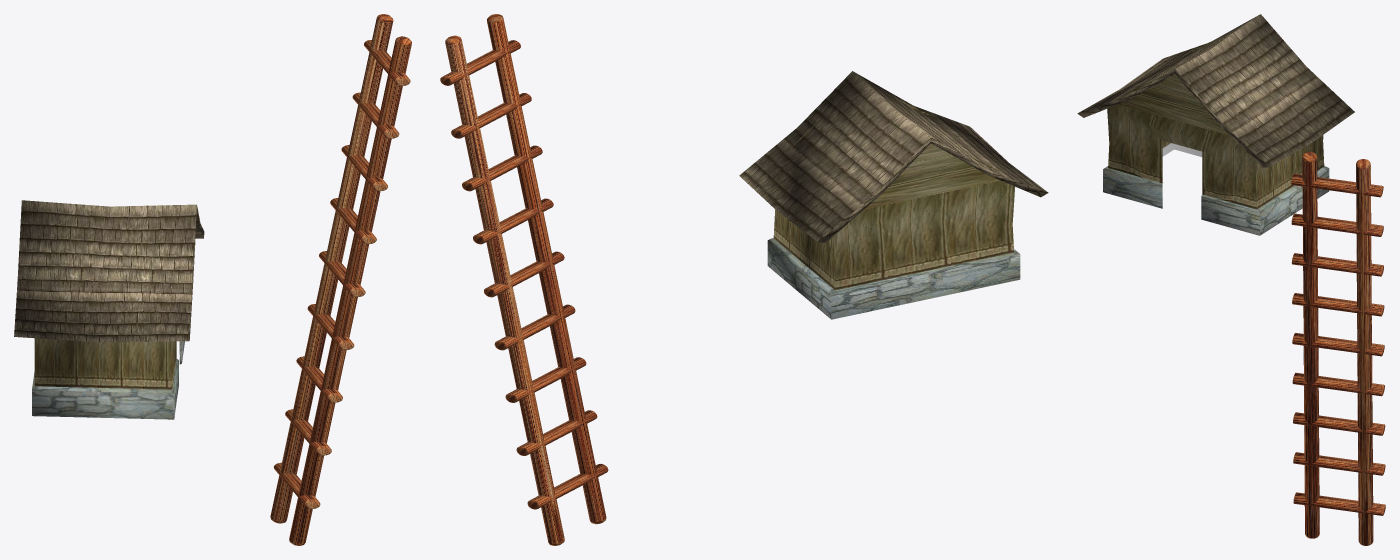
The model's file is lom_model3.fbx.
3 renders of one model, left to right at view 1: azimuth 30°, elevation 25°; view 2: azimuth 150°, elevation 25°; view 3: azimuth 270°, elevation 25°, orthographic. The views are drawn at different scales.
Parts seen in each view (by area): view 1: chatka3, zebrik3; view 2: chatka3, zebrik3; view 3: chatka3, zebrik3.
Boxes of the visible parts, x1,y1,x2,y2 form: chatka3: (14, 200, 204, 419); zebrik3: (270, 14, 411, 545); chatka3: (739, 71, 1048, 319); zebrik3: (440, 14, 608, 545); chatka3: (1077, 14, 1354, 235); zebrik3: (1291, 152, 1385, 545).
Bounding box in the file's own units: 3.99 × 3.77 × 2.44.
2 materials, 2 textured.
